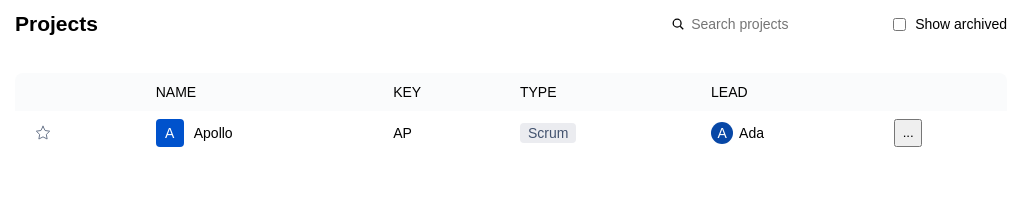
JL-219 — ProjectsPage archive UX › re-fetches including archived when "Show archived" is toggled on
Expected: the text "Apollo" is shown, [194, 123, 233, 143]
Click the checkbox labelled "Show archived".
click(900, 24)  # box [893, 18, 906, 31]
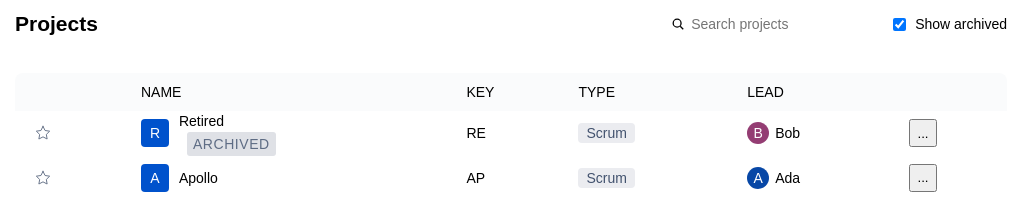
Expected: the text "Retired" is shown, [179, 113, 224, 129]
Expected: the text "Archived" is shown, [187, 132, 276, 156]
